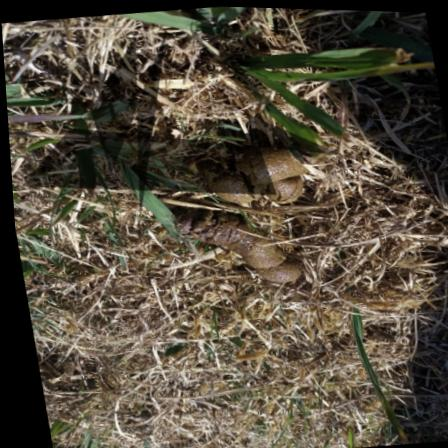dog-poop: (152, 206, 295, 295), (197, 130, 308, 216)
